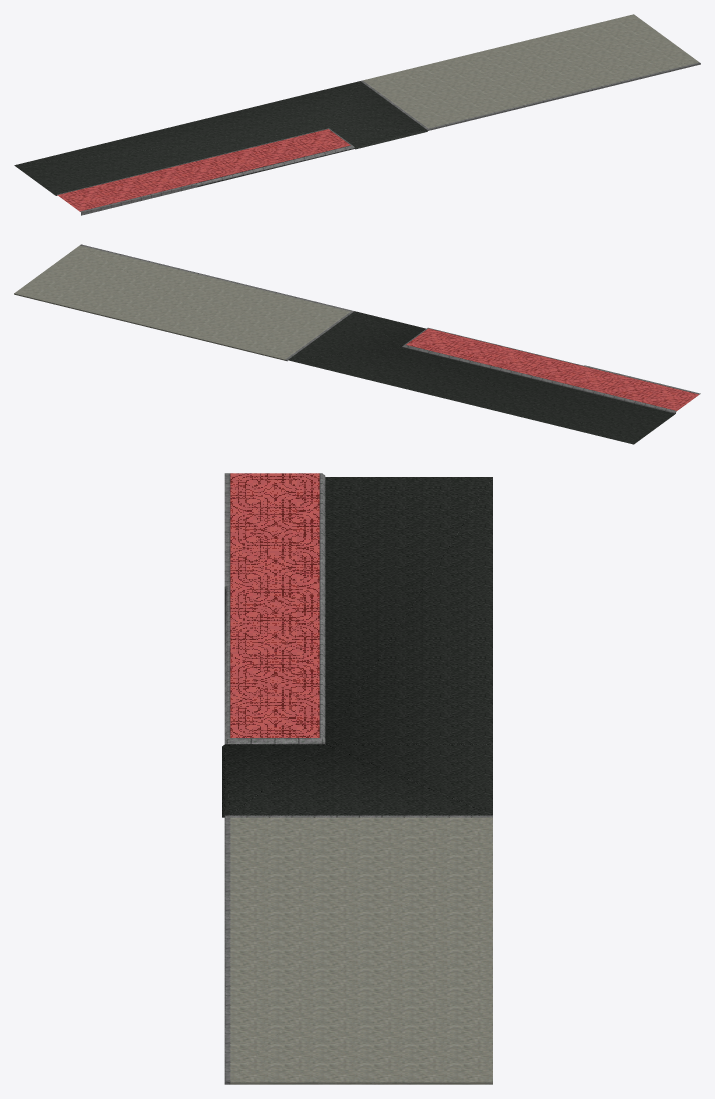
File: CenteralParkMainRoad.glb
The picture shows the model from 3 angles, top to bottom: view 1: azimuth 30°, elevation 25°; view 2: azimuth 150°, elevation 25°; view 3: azimuth 270°, elevation 25°; orthographic projection. The views are drawn at different scales.
Parts seen in each view (by area): view 1: MainRoad2; view 2: MainRoad2; view 3: MainRoad2.
Part boxes in pixels (x1,y1,x2,y2): MainRoad2: [14, 14, 700, 215]; MainRoad2: [14, 244, 700, 444]; MainRoad2: [222, 473, 492, 1084].
Size of the model in its own units: 128 by 0.62 by 24.25.
Materials: 4 (4 with a texture image).
